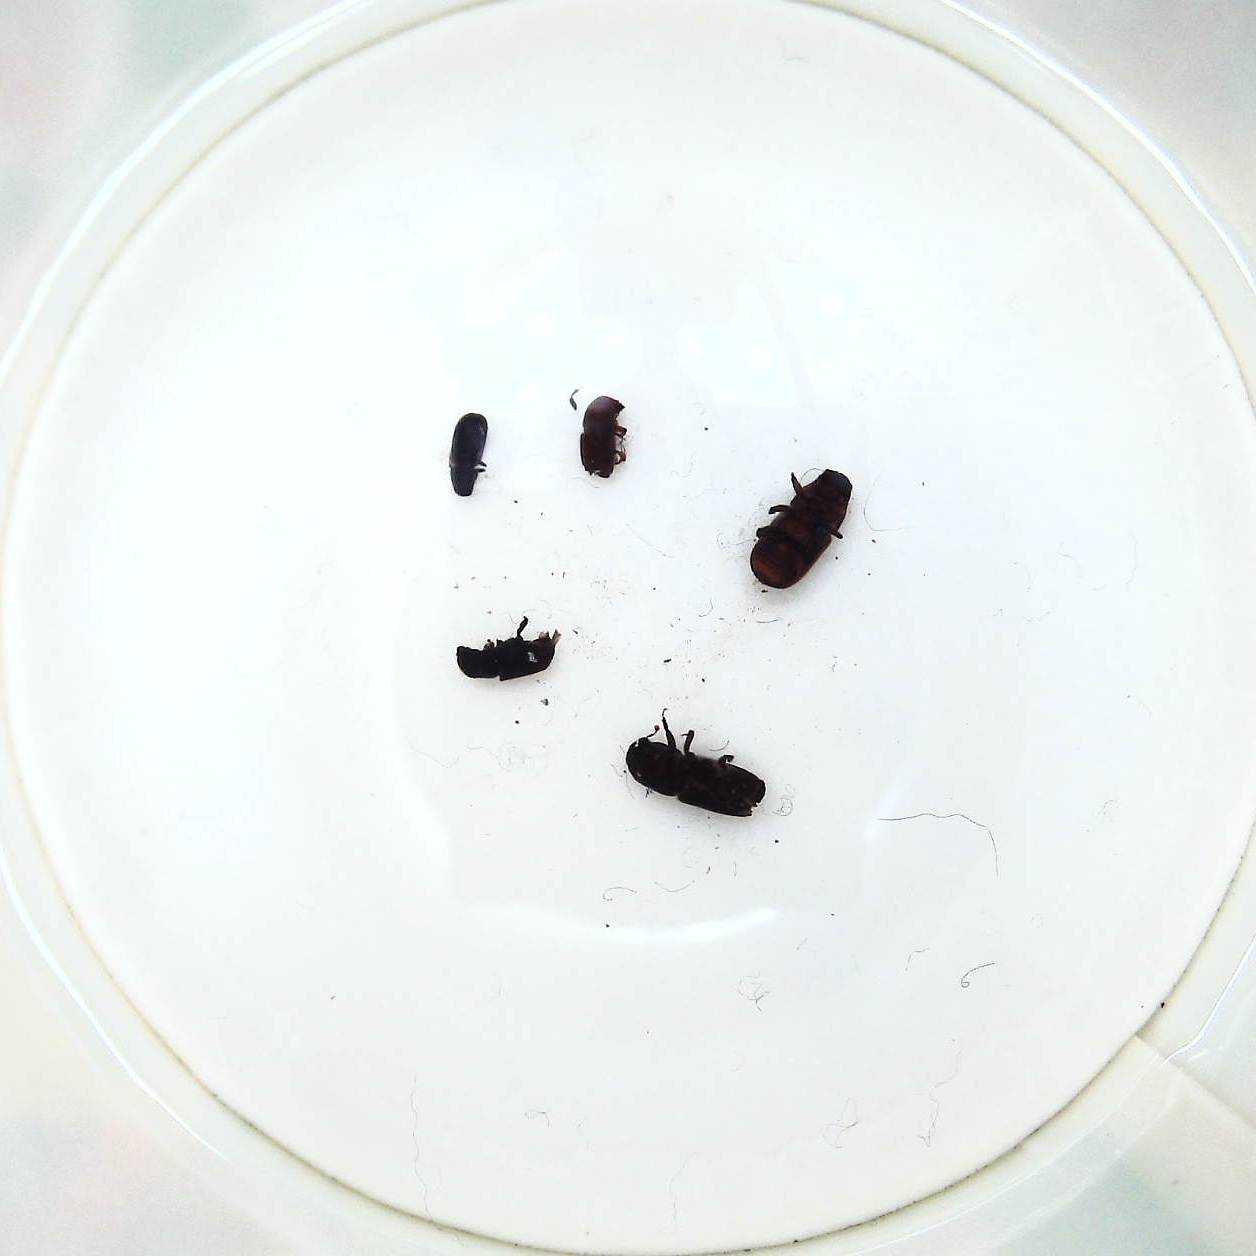Boerner: (621, 709, 765, 822)
Leconte: (745, 464, 860, 593)
armandi: (450, 631, 562, 686)
coleoptera: (443, 404, 491, 501)
linnaeus: (579, 392, 630, 485)
